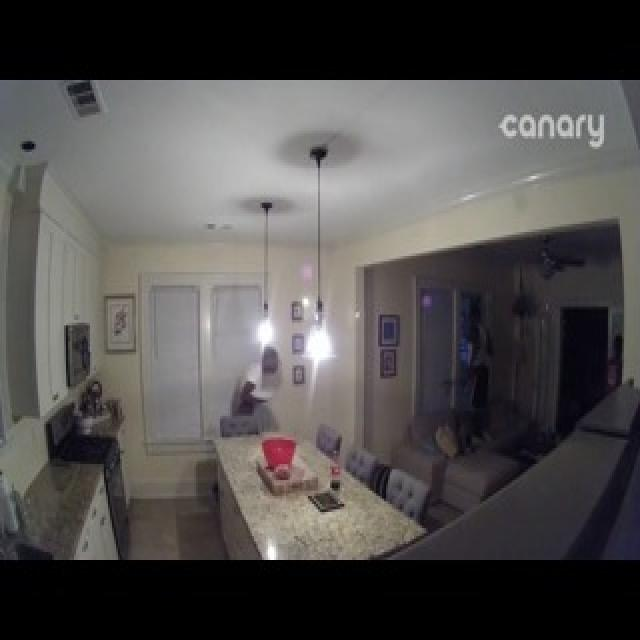thief: (234, 331, 286, 442), (472, 313, 495, 431)
